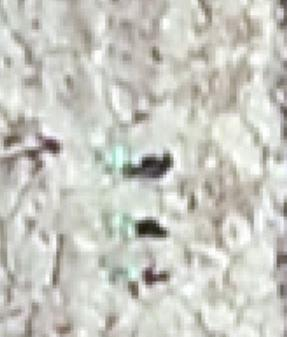cotton: (114, 144, 128, 174), (118, 214, 133, 240), (129, 267, 141, 281)
